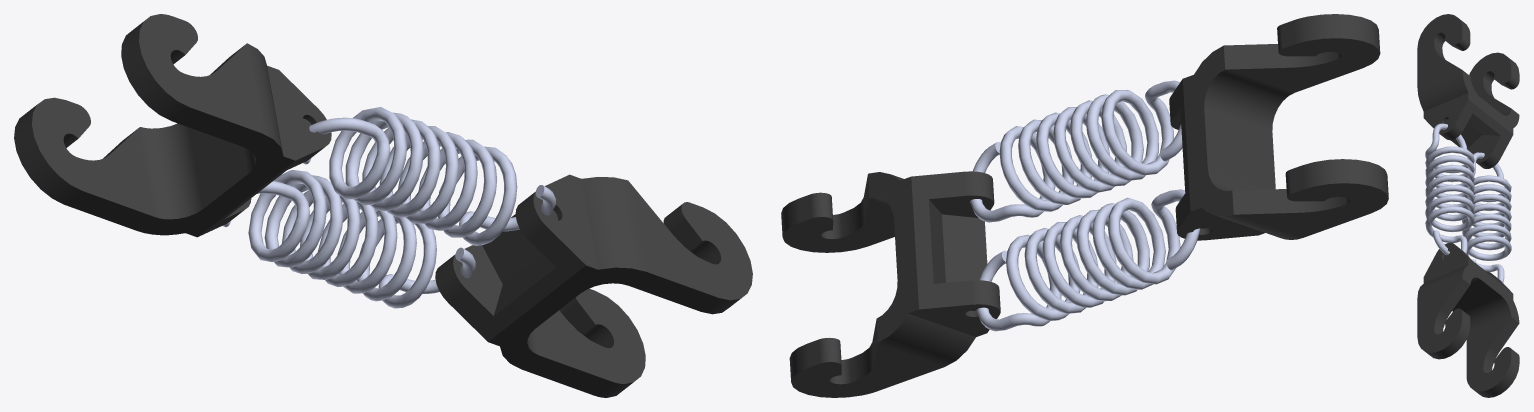
3 views of the same model, side by side, from view 1: azimuth 30°, elevation 25°; view 2: azimuth 150°, elevation 25°; view 3: azimuth 270°, elevation 25° (orthographic). The views are drawn at different scales.
Parts seen in each view (by area): view 1: IRB360_6-1600-STD-4D_rev03_LA2_CU_CAD; view 2: IRB360_6-1600-STD-4D_rev03_LA2_CU_CAD; view 3: IRB360_6-1600-STD-4D_rev03_LA2_CU_CAD.
Part boxes in pixels (left/top/right/bottom): IRB360_6-1600-STD-4D_rev03_LA2_CU_CAD: left=14, top=14, right=752, bottom=397; IRB360_6-1600-STD-4D_rev03_LA2_CU_CAD: left=781, top=14, right=1388, bottom=397; IRB360_6-1600-STD-4D_rev03_LA2_CU_CAD: left=1417, top=14, right=1519, bottom=397.
Bounding box in the file's own units: 0.1142 × 0.0819 × 0.0294.
